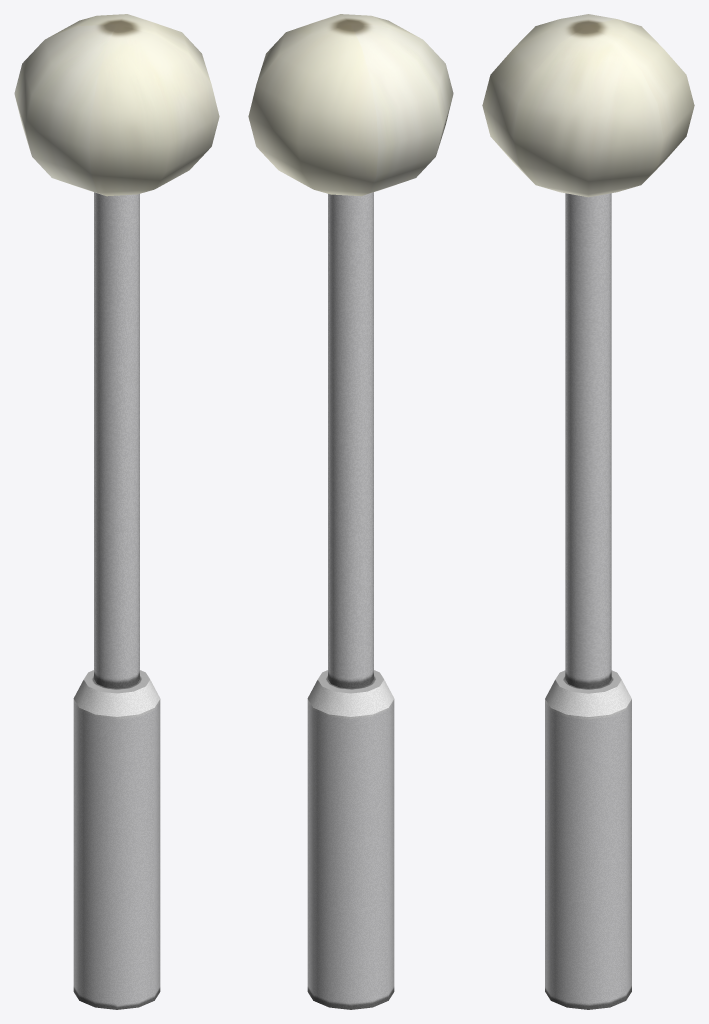
The model's file is Md_Light.fbx.
The picture shows the model from 3 angles, left to right: view 1: azimuth 30°, elevation 25°; view 2: azimuth 150°, elevation 25°; view 3: azimuth 270°, elevation 25°; orthographic projection.
Visible parts, largest first — view 1: pCylinder1, pSphere2; view 2: pCylinder1, pSphere2; view 3: pCylinder1, pSphere2.
Part boxes in pixels (left/top/right/bottom): pCylinder1: left=73, top=192, right=160, bottom=1009; pSphere2: left=14, top=14, right=219, bottom=196; pCylinder1: left=307, top=192, right=394, bottom=1009; pSphere2: left=248, top=14, right=453, bottom=196; pCylinder1: left=545, top=193, right=631, bottom=1009; pSphere2: left=482, top=14, right=694, bottom=197.
Size of the model in its own units: 122 by 613 by 122.
